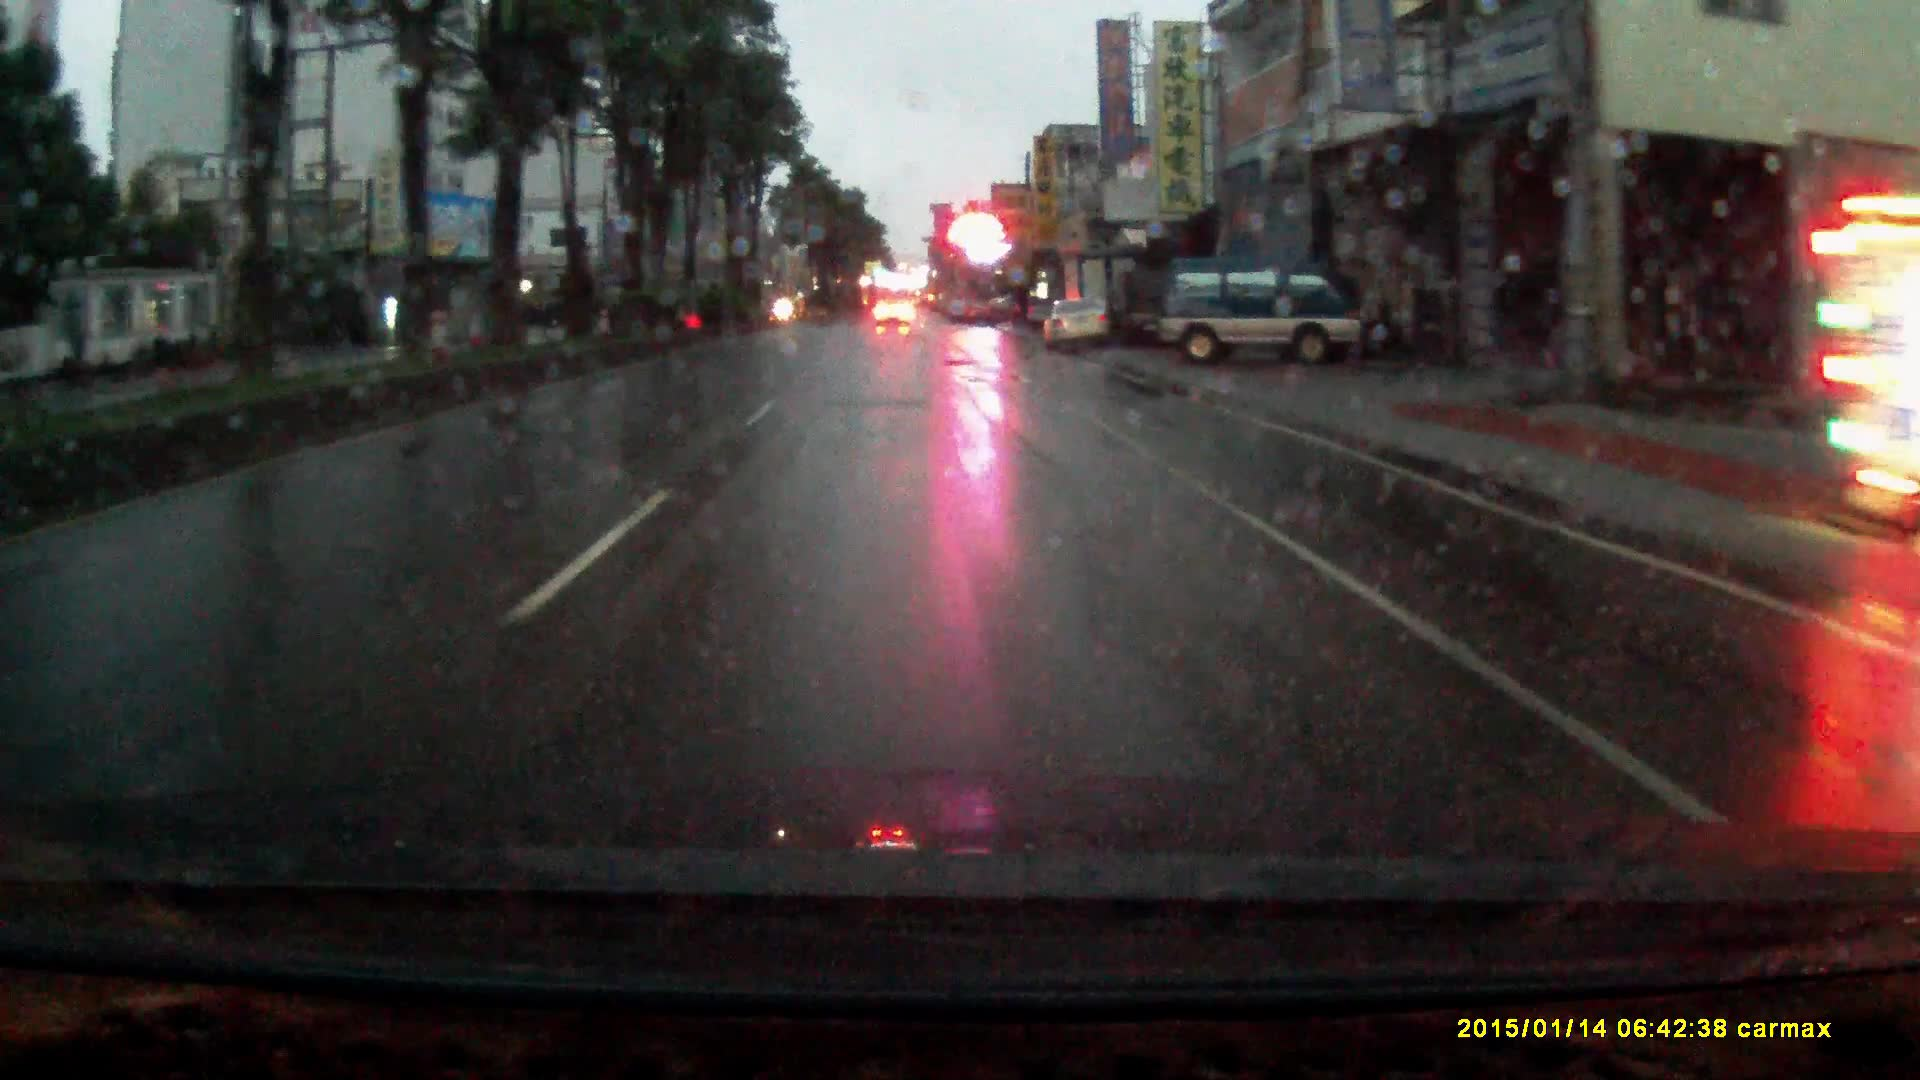vehicle: (1154, 251, 1386, 369), (1062, 248, 1141, 344), (1043, 295, 1110, 352), (876, 301, 913, 330)
